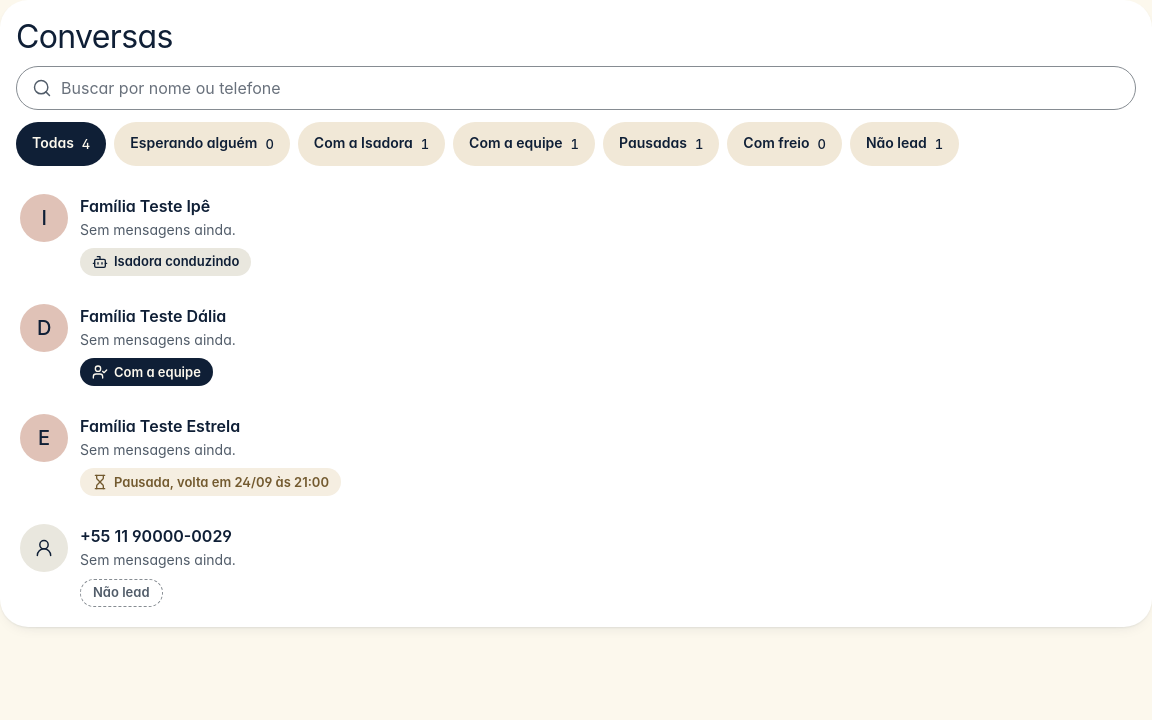
Test: ListaConversas (filtro por situação, C5) › trocar para 'Com a equipe' mostra só as conversas assumidas
The image size is (1152, 720).
Click the button "Com a equipe 1" at (524, 144), box left=453, top=122, right=595, bottom=166
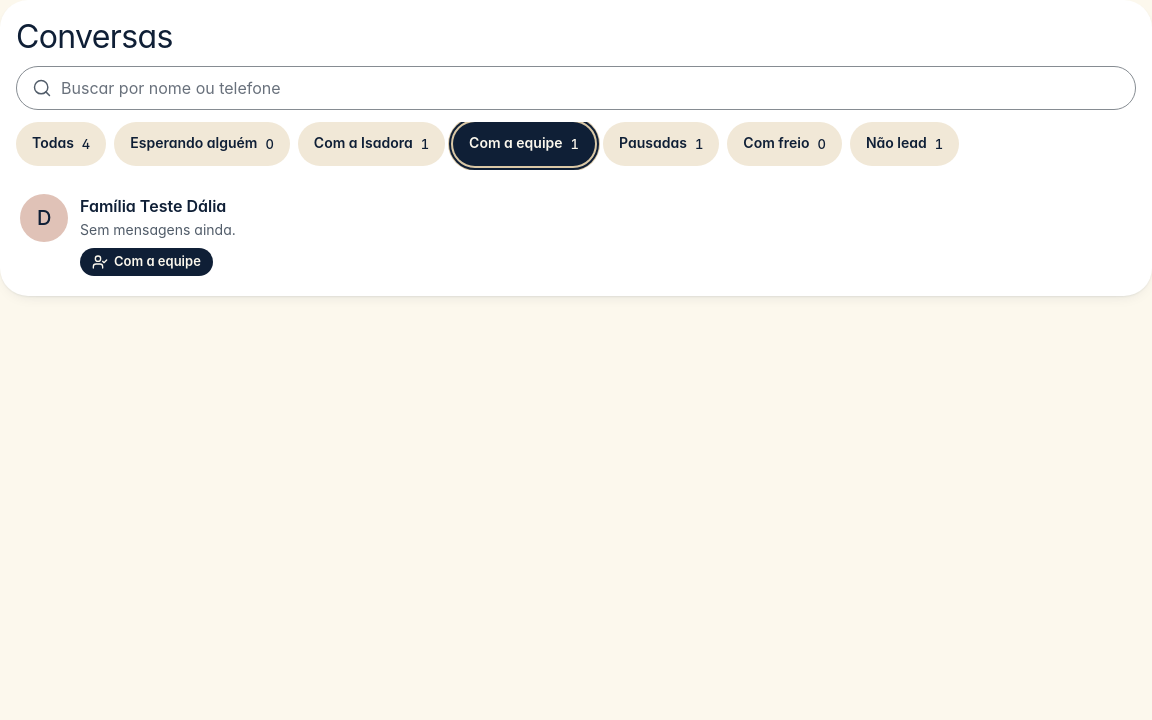
Expected: the text "Família Teste Dália" is shown, left=80, top=194, right=226, bottom=218
Now the link "Família Teste Ipê" is gone
Now the link "Família Teste Estrela" is gone
